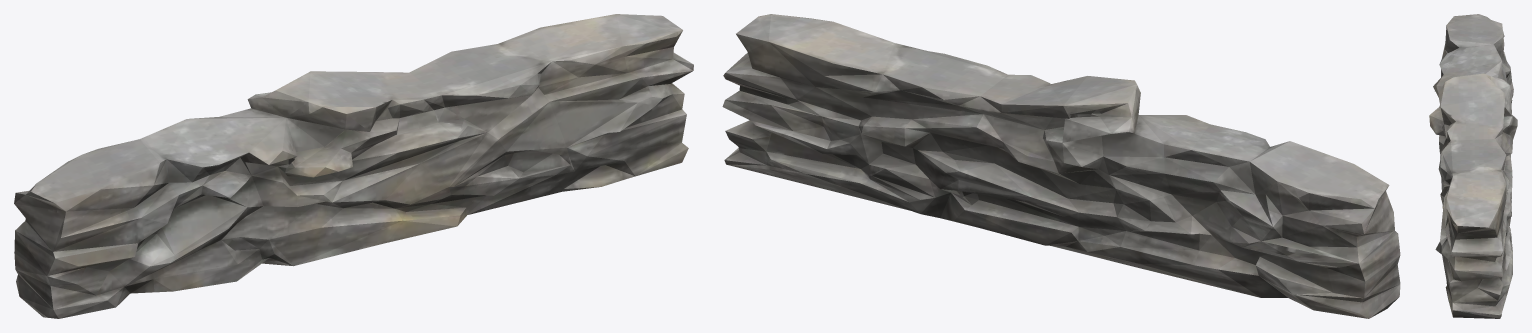
Rendered from stone_wall_3.glb.
3 views of the same model, side by side, from view 1: azimuth 30°, elevation 25°; view 2: azimuth 150°, elevation 25°; view 3: azimuth 270°, elevation 25° (orthographic). The views are drawn at different scales.
Parts seen in each view (by area): view 1: geometry_0; view 2: geometry_0; view 3: geometry_0.
Part boxes in pixels (x1=…): geometry_0: x1=14, y1=14, x2=693, y2=318; geometry_0: x1=722, y1=14, x2=1400, y2=318; geometry_0: x1=1429, y1=14, x2=1517, y2=318.
Bounding box in the file's own units: 0.9949 × 0.2314 × 0.1631.
Materials: 1 (1 with a texture image).
